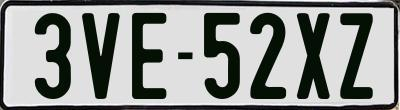2: (249, 11, 289, 97)
3: (32, 13, 71, 104)
5: (202, 10, 238, 96)
E: (131, 10, 170, 98)
V: (82, 11, 125, 102)
X: (295, 12, 330, 104)
Z: (339, 11, 373, 98)
